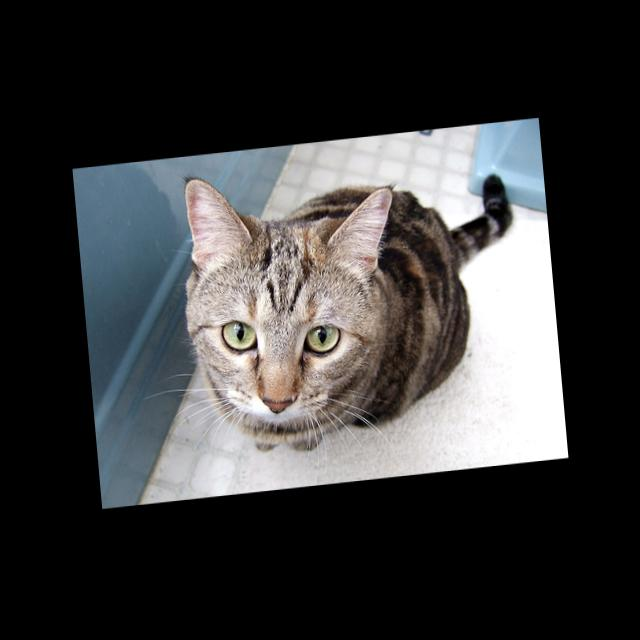animals: (190, 161, 406, 419)
